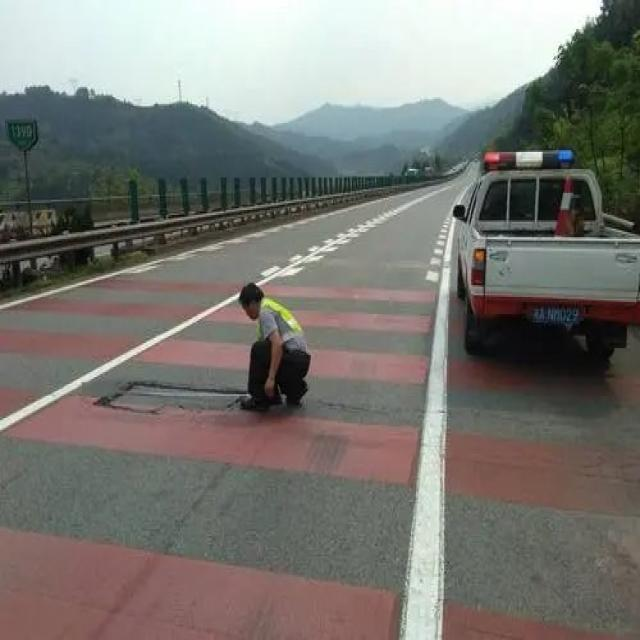pothole: (106, 381, 246, 414)
